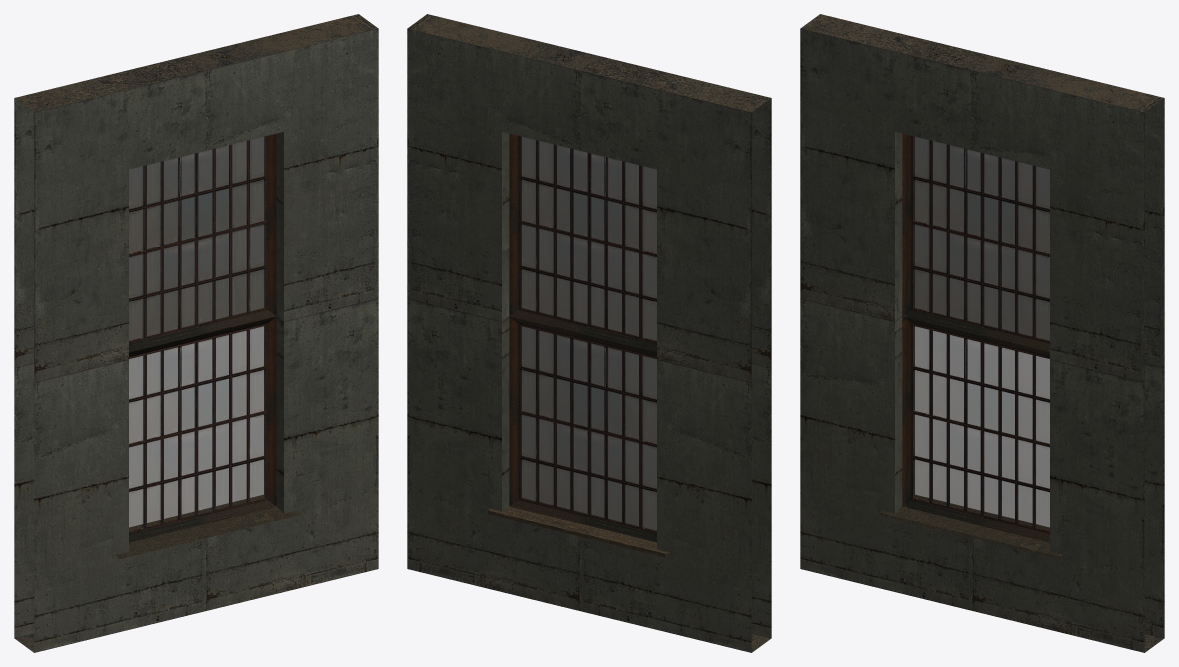
File: wall_rg_1_m_2.dae
3 renders of one model, left to right at view 1: azimuth 30°, elevation 25°; view 2: azimuth 150°, elevation 25°; view 3: azimuth 330°, elevation 25°, orthographic.
Visible parts, largest first — view 1: wall_rg_1_m_2; view 2: wall_rg_1_m_2; view 3: wall_rg_1_m_2.
Part boxes in pixels (x1=…): wall_rg_1_m_2: x1=14, y1=14, x2=378, y2=652; wall_rg_1_m_2: x1=407, y1=14, x2=771, y2=652; wall_rg_1_m_2: x1=800, y1=14, x2=1164, y2=652.
Size of the model in its own units: 4 by 0.505 by 6.
6 materials, 6 textured.
